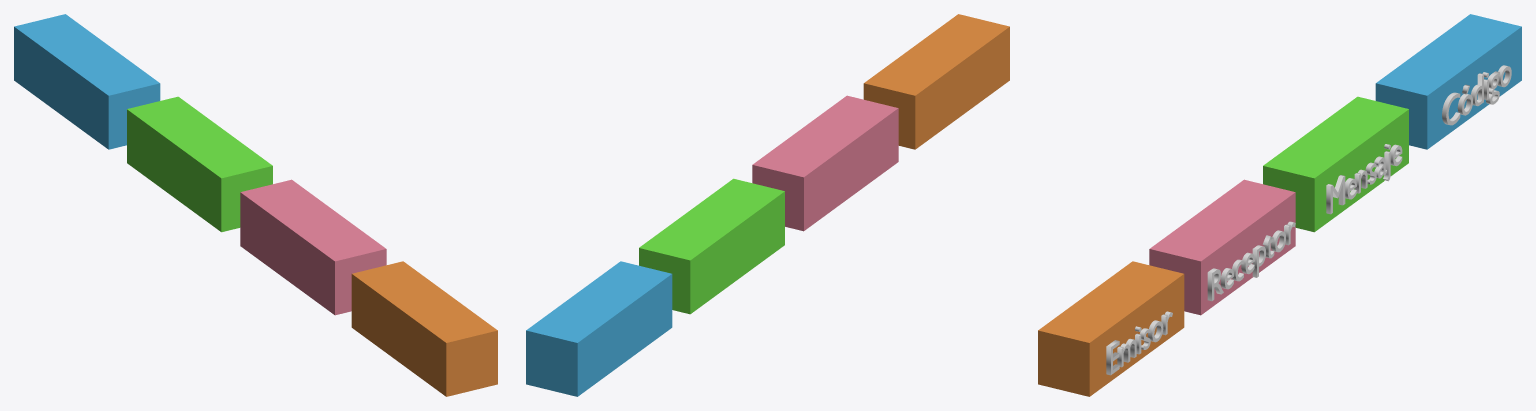
File: Botones.glb
The picture shows the model from 3 angles, left to right: view 1: azimuth 30°, elevation 25°; view 2: azimuth 150°, elevation 25°; view 3: azimuth 330°, elevation 25°; orthographic projection.
Parts seen in each view (by area): view 1: Cube, Cube.002, Cube.003, Cube.001; view 2: Cube.003, Cube.001, Cube.002, Cube; view 3: Cube, Cube.003, Cube.002, Cube.001, Text.001, Text.002, Text.003, Text.
Boxes of the visible parts, x1,y1,x2,y2 form: Cube: [351, 261, 497, 396]; Cube.002: [127, 96, 272, 232]; Cube.003: [14, 14, 160, 149]; Cube.001: [240, 179, 386, 315]; Cube.003: [526, 261, 672, 396]; Cube.001: [752, 95, 898, 231]; Cube.002: [639, 178, 784, 314]; Cube: [863, 14, 1009, 149]; Cube: [1038, 261, 1184, 396]; Cube.003: [1375, 14, 1521, 149]; Cube.002: [1263, 96, 1408, 232]; Cube.001: [1149, 179, 1295, 315]; Text.001: [1207, 221, 1295, 301]; Text.002: [1326, 144, 1402, 214]; Text.003: [1442, 65, 1511, 125]; Text: [1106, 311, 1172, 375].
Bounding box in the file's own units: 2.01 × 1.86 × 26.96.
